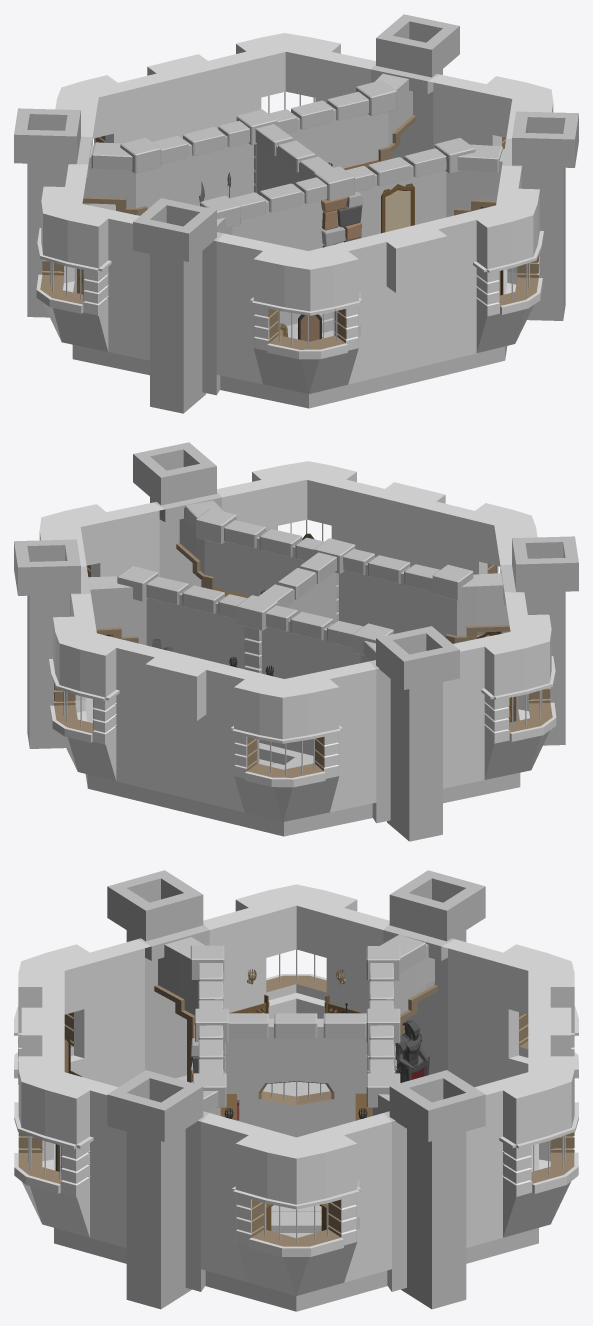
File: firstfloortest.fbx
The picture shows the model from 3 angles, top to bottom: view 1: azimuth 30°, elevation 25°; view 2: azimuth 150°, elevation 25°; view 3: azimuth 270°, elevation 25°; orthographic projection. The views are drawn at different scales.
Visible parts, largest first — view 1: firstfloor, walllvl4, walllvl6, walllvl5, walllvl3; view 2: firstfloor, walllvl6, walllvl4, walllvl5, walllvl3; view 3: firstfloor, walllvl6, walllvl4, walllvl3, walllvl5.
Boxes of the visible parts, box(x1,y1,x2,y2) form: firstfloor: box(14, 14, 578, 413); walllvl4: box(216, 165, 543, 393); walllvl6: box(55, 33, 375, 210); walllvl5: box(36, 164, 149, 360); walllvl3: box(428, 74, 553, 148); firstfloor: box(14, 442, 578, 841); walllvl6: box(49, 593, 376, 821); walllvl4: box(217, 461, 537, 634); walllvl5: box(443, 592, 556, 788); walllvl3: box(39, 502, 164, 577); firstfloor: box(54, 870, 538, 1311); walllvl6: box(442, 939, 578, 1247); walllvl4: box(14, 939, 150, 1247); walllvl3: box(201, 1113, 391, 1295); walllvl5: box(203, 884, 389, 1018).
Bounding box in the file's own units: 284 × 98.6 × 244.
